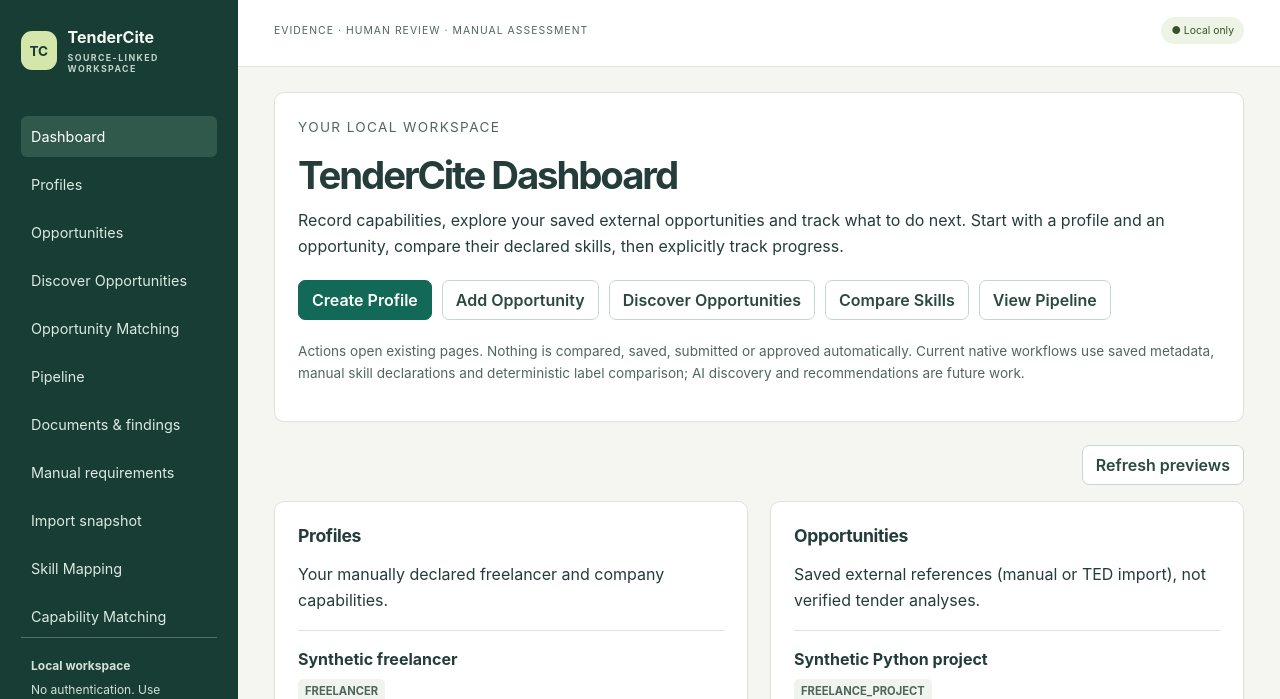
Scenario: explicit refresh reads current persisted actions, with no polling or writes
Expected: the heading "Synthetic freelancer" is shown, [298,649,458,669]
What coordinates should you click on to do the following:
click the button "Refresh previews"
I would click on:
 (1163, 465)
Its box is [1082,445,1244,485].
(page scrolled)
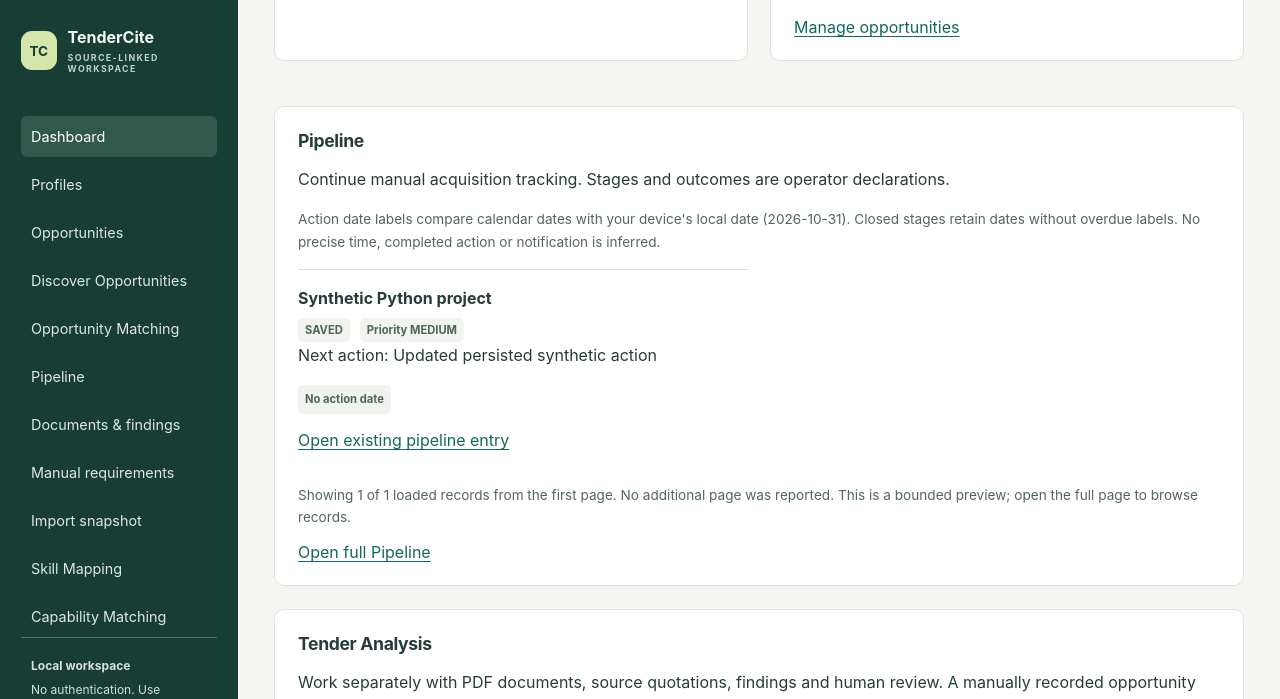
Expected: the text "Next action: Updated persisted synthetic action" is shown, [298,345,657,365]
